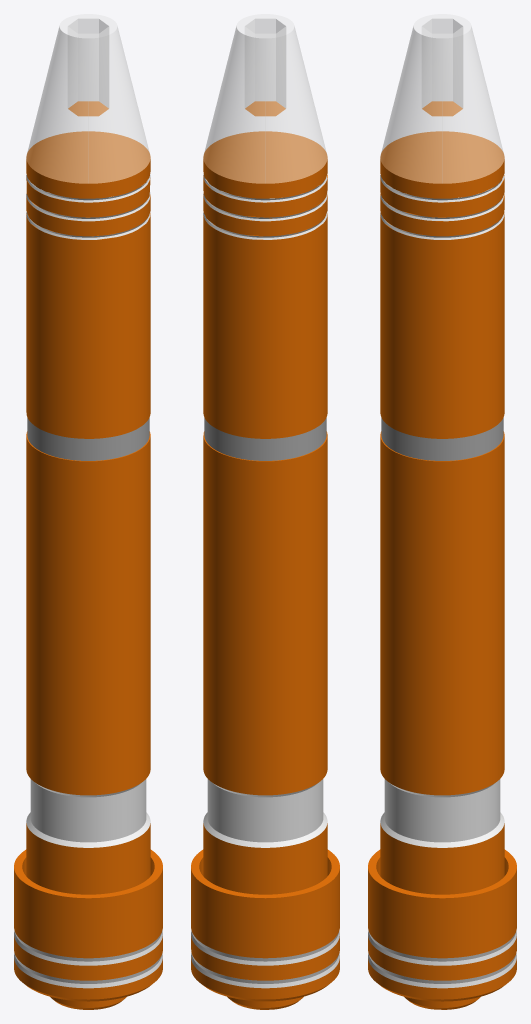
Rendered from Screwtorchpen.glb.
3 views of the same model, side by side, from view 1: azimuth 30°, elevation 25°; view 2: azimuth 150°, elevation 25°; view 3: azimuth 270°, elevation 25° (orthographic).
Size of the model in its own units: 0.018 by 0.129 by 0.018.
